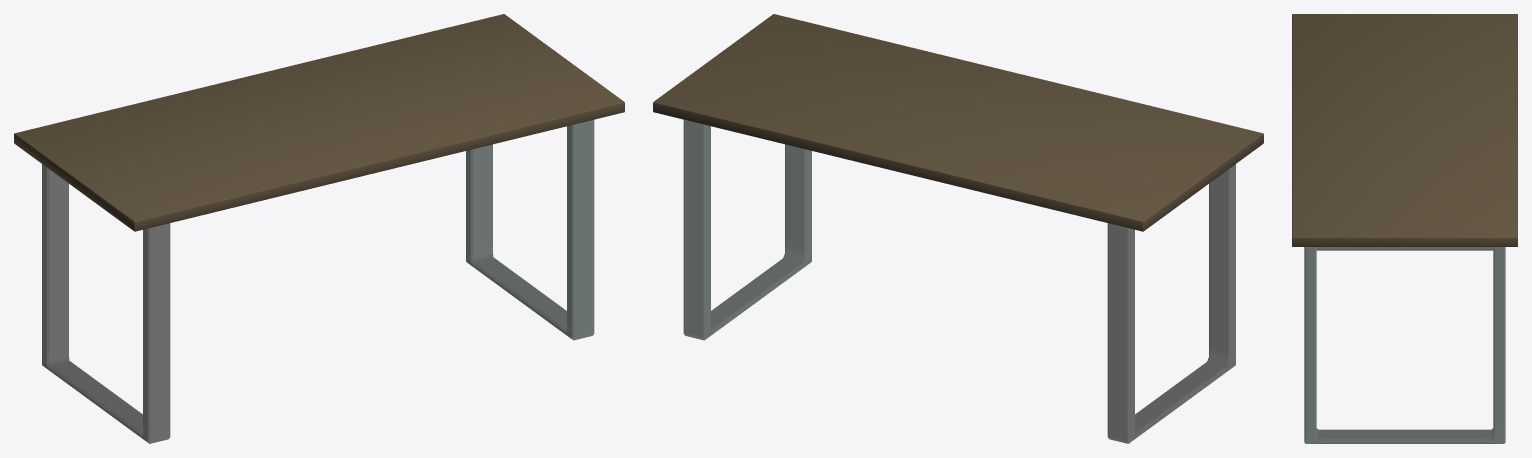
The model's file is Table-Plain-2.fbx.
3 renders of one model, left to right at view 1: azimuth 30°, elevation 25°; view 2: azimuth 150°, elevation 25°; view 3: azimuth 270°, elevation 25°, orthographic. The views are drawn at different scales.
Visible parts, largest first — view 1: Table, Stand.005, Stand.001; view 2: Table, Stand.005, Stand.001; view 3: Table, Stand.001, Stand.005.
Part boxes in pixels (x1,y1,x2,y2): Table: (14,14,624,231); Stand.005: (42,164,170,443); Stand.001: (466,119,594,340); Table: (653,14,1263,231); Stand.005: (1107,164,1235,443); Stand.001: (683,119,811,340); Table: (1292,14,1517,246); Stand.001: (1304,247,1505,443); Stand.005: (1316,247,1493,250).
Size of the model in its own units: 188 by 85.26 by 80.08.
